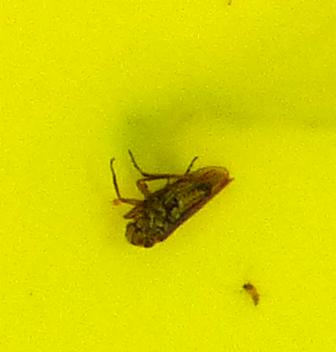Hemiptera: (100, 100, 236, 252)
